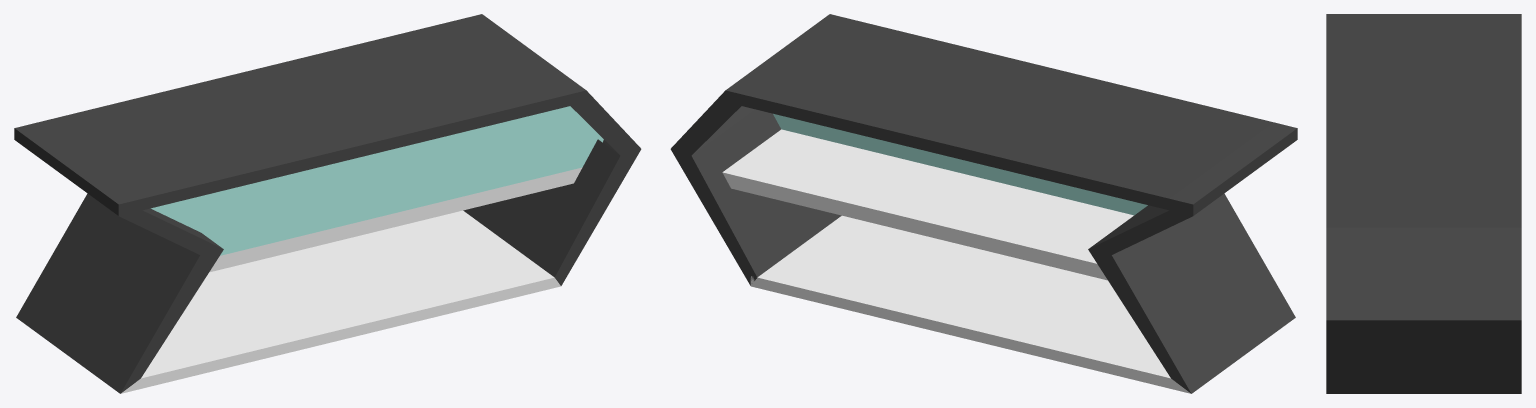
File: Desk_Straight.fbx
The picture shows the model from 3 angles, left to right: view 1: azimuth 30°, elevation 25°; view 2: azimuth 150°, elevation 25°; view 3: azimuth 270°, elevation 25°; orthographic projection. The views are drawn at different scales.
Parts seen in each view (by area): view 1: Desk_Straight; view 2: Desk_Straight; view 3: Desk_Straight.
Boxes of the visible parts, <box> form: Desk_Straight: <box>14,14,641,393</box>; Desk_Straight: <box>670,14,1297,393</box>; Desk_Straight: <box>1326,14,1521,393</box>.
Size of the model in its own units: 1.56 by 0.5408 by 0.5383.
Materials: 1 (1 with a texture image).
